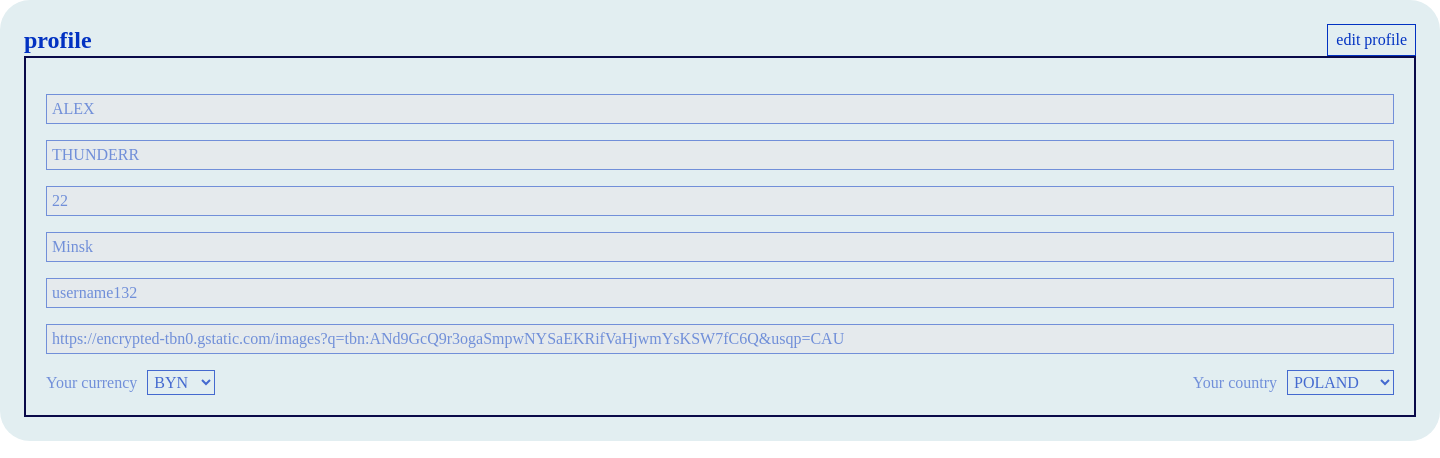
Scenario: EditableProfileCard › should reset form data when fields were edited and cancel button was clicked
This screenshot has width=1440, height=458.
Click the button with test id "EditableProfileCardHeader.EditButton".
click(1372, 40)  # box x1=1327 y1=24 x2=1416 y2=56
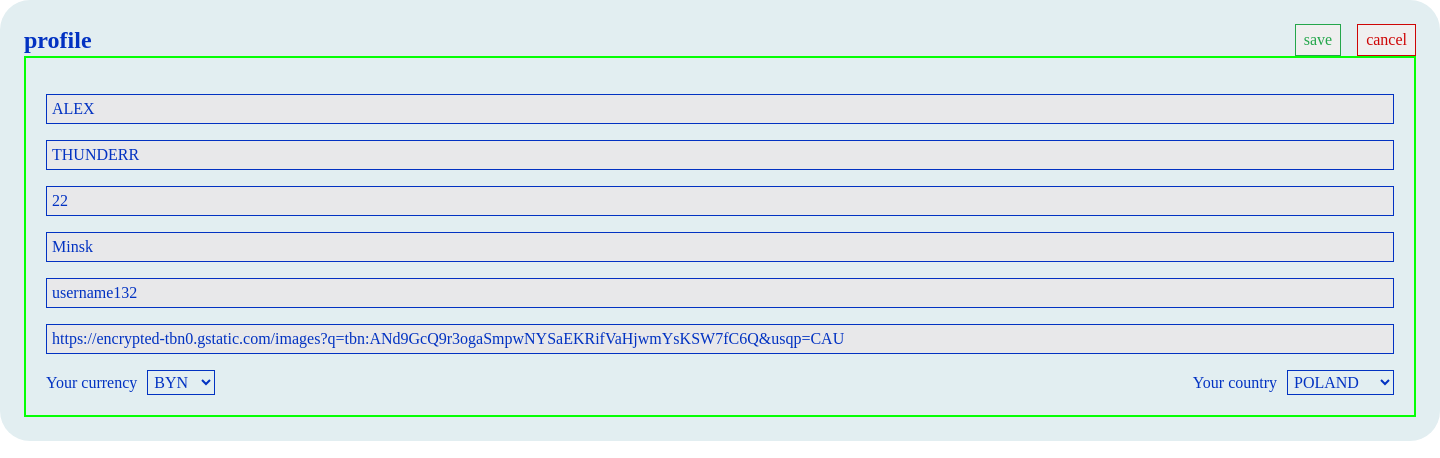
Clear the field with test id "ProfileCard.FirstName" at (720, 109), box x1=46 y1=94 x2=1394 y2=124
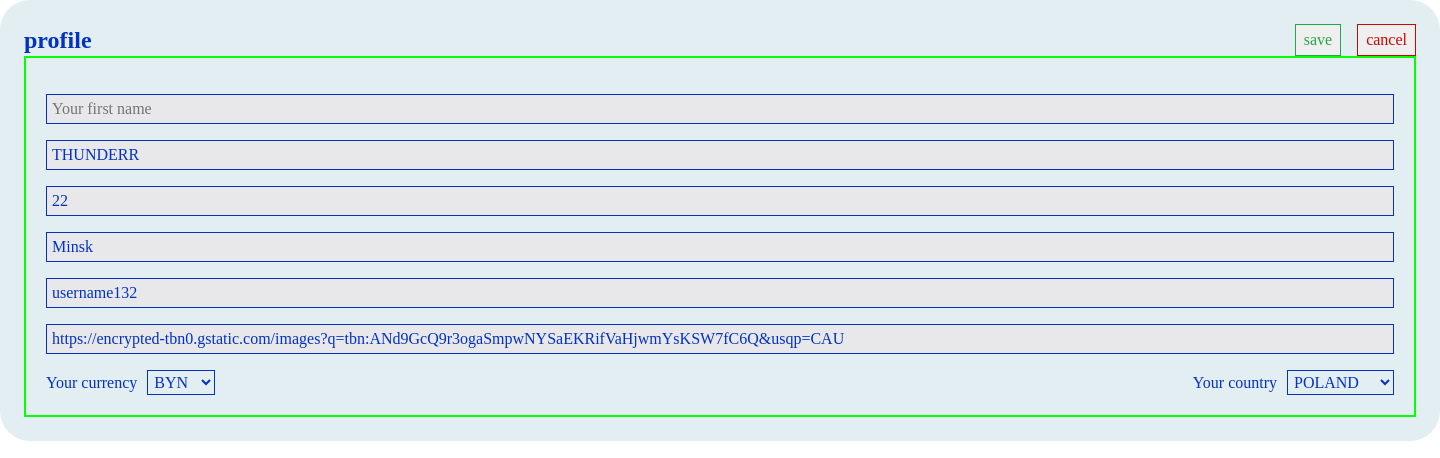
Clear the field with test id "ProfileCard.LastName" at (720, 155), box x1=46 y1=140 x2=1394 y2=170
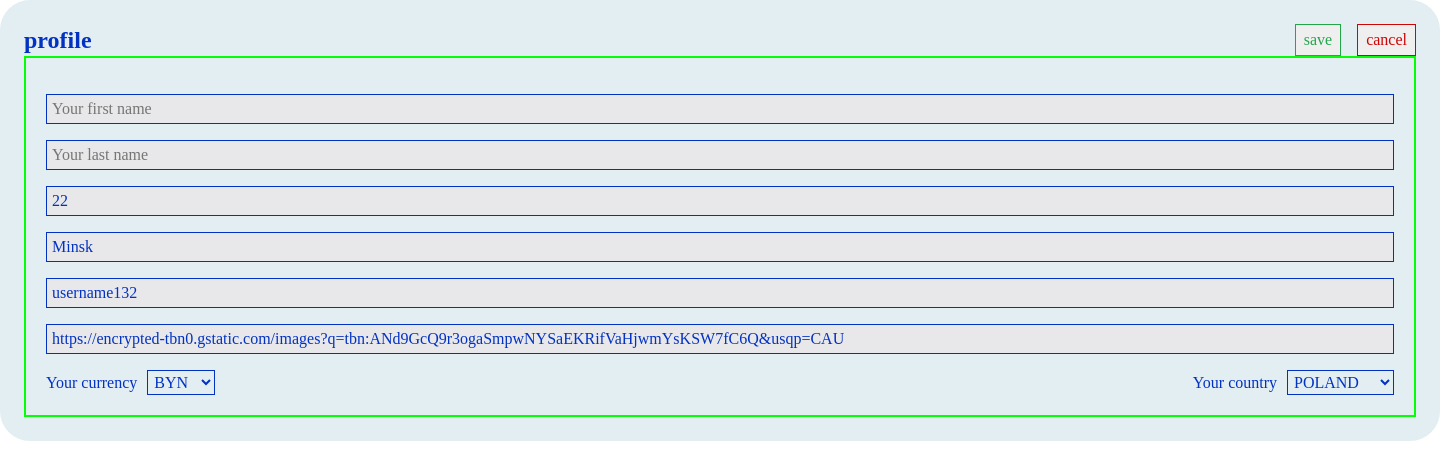
Type "John" into the field with test id "ProfileCard.FirstName".
click(720, 109); type("John")  # box x1=46 y1=94 x2=1394 y2=124
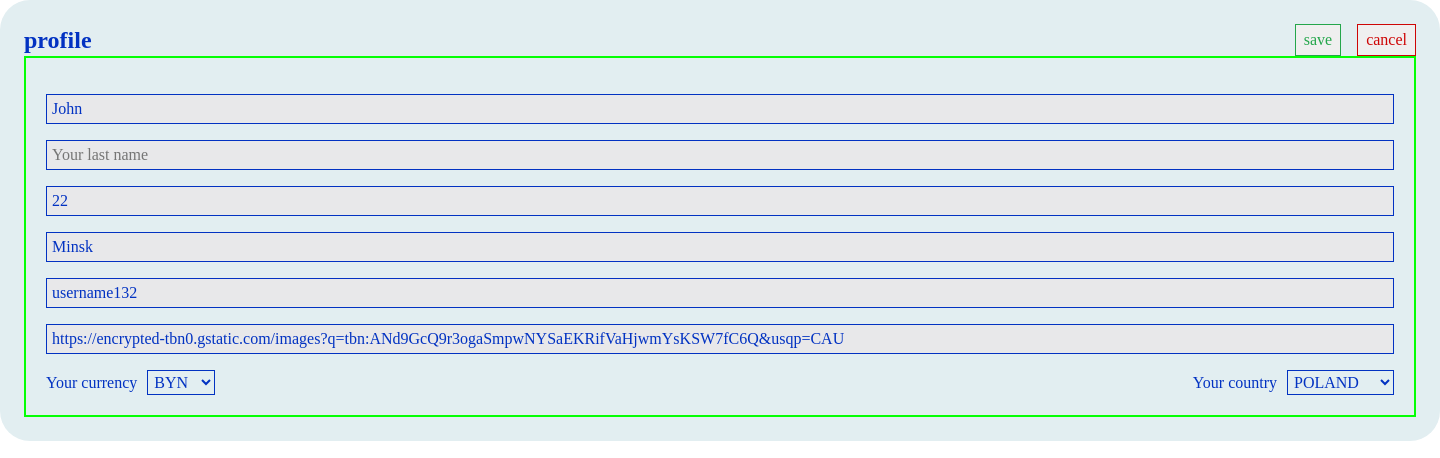
Type "Snow" into the field with test id "ProfileCard.LastName".
click(720, 155); type("Snow")  # box x1=46 y1=140 x2=1394 y2=170
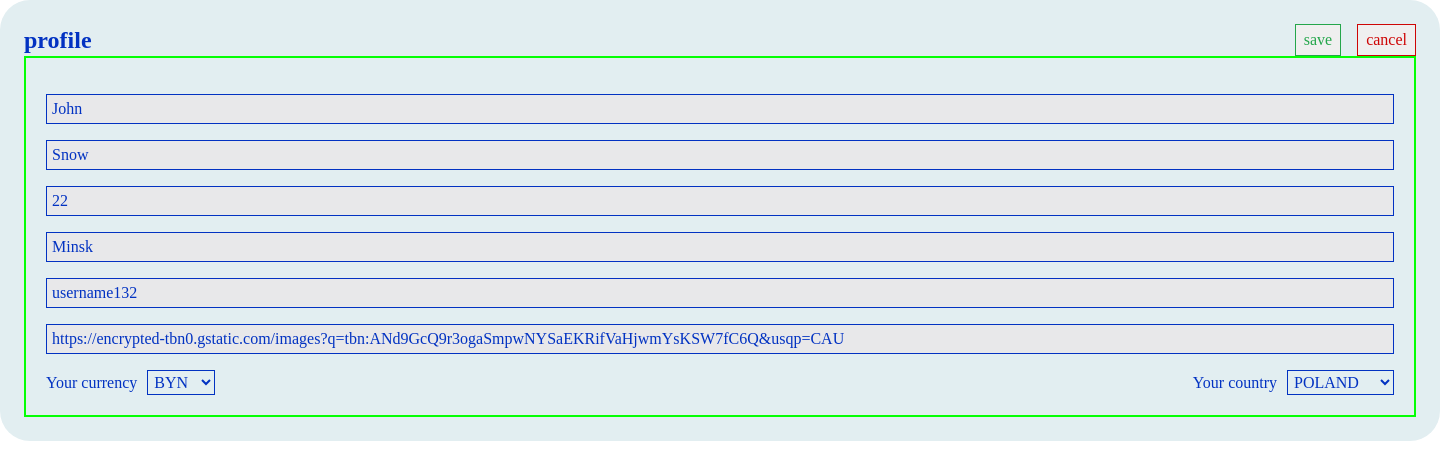
Click the button with test id "EditableProfileCardHeader.CancelButton".
click(1387, 40)  # box x1=1357 y1=24 x2=1416 y2=56
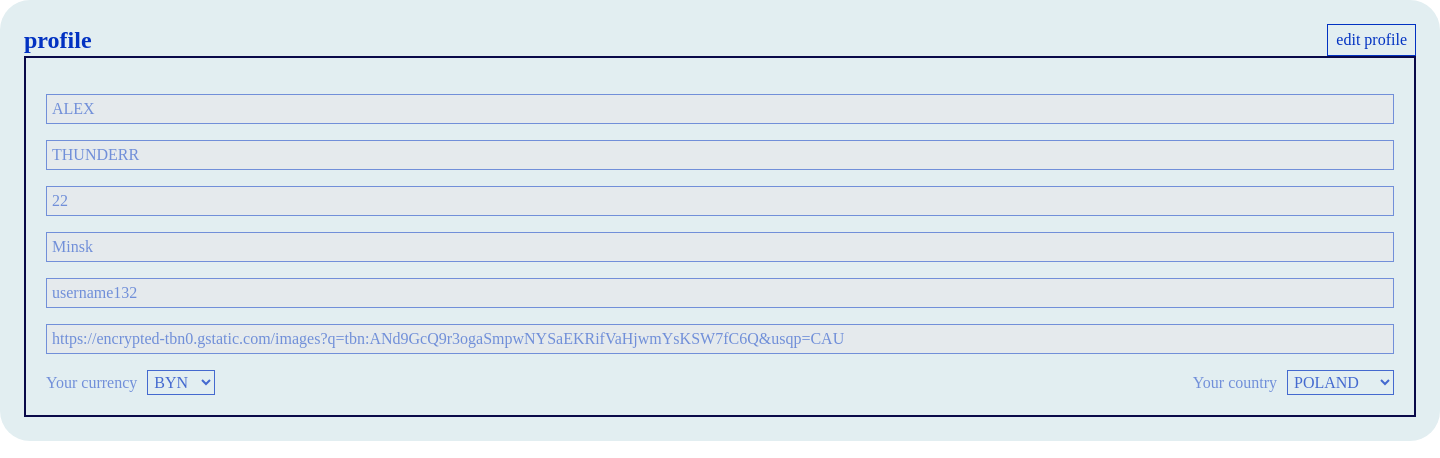
Expected: the field with test id "ProfileCard.FirstName" holds "ALEX", x1=46 y1=94 x2=1394 y2=124
Expected: the field with test id "ProfileCard.LastName" holds "THUNDERR", x1=46 y1=140 x2=1394 y2=170
